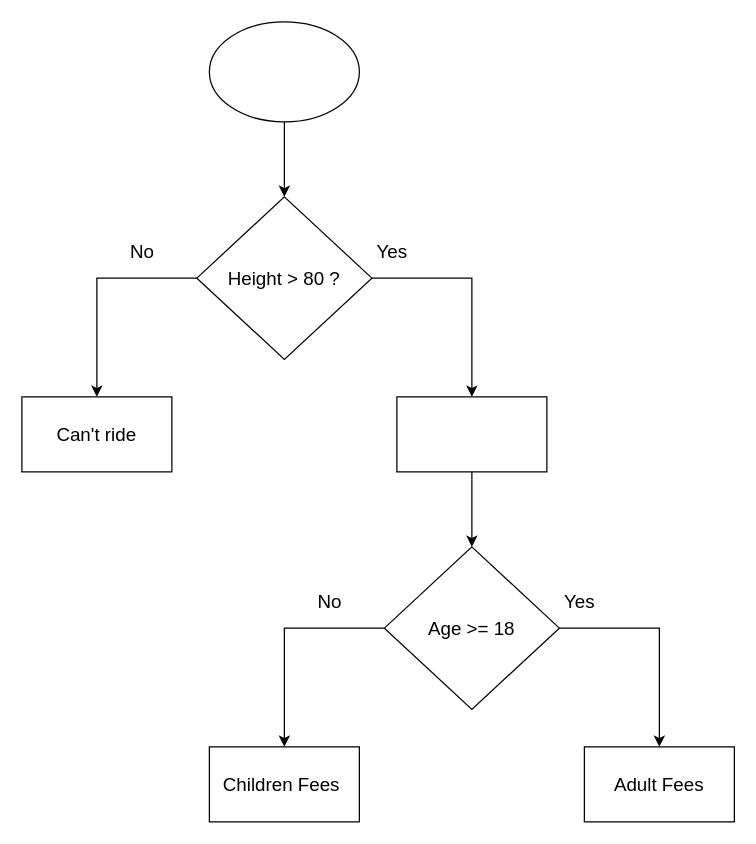
Image size: 756x844. Some labels were removed from this diagram. Here are the shapes that lost their labels. From the top down, the centre of each, then its label:
the point at 283,71: Start
the point at 471,434: Can ride
